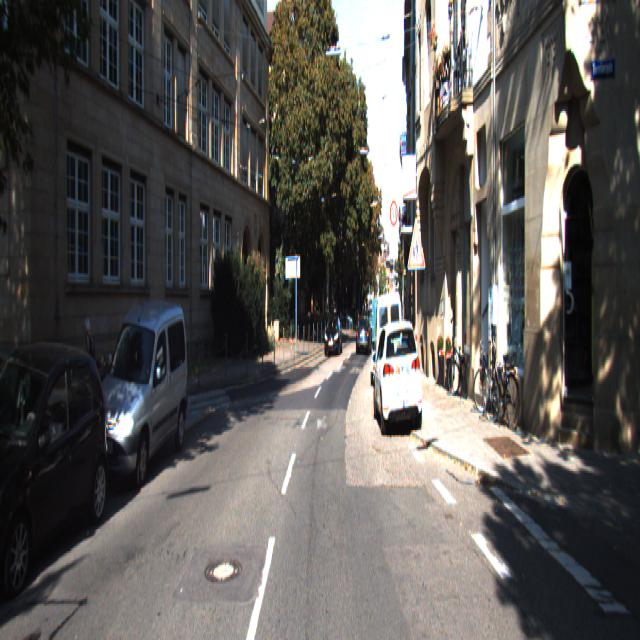Car: (0, 331, 118, 609), (86, 289, 190, 496), (372, 312, 424, 439), (372, 286, 404, 410), (324, 312, 343, 357), (356, 313, 372, 356)
